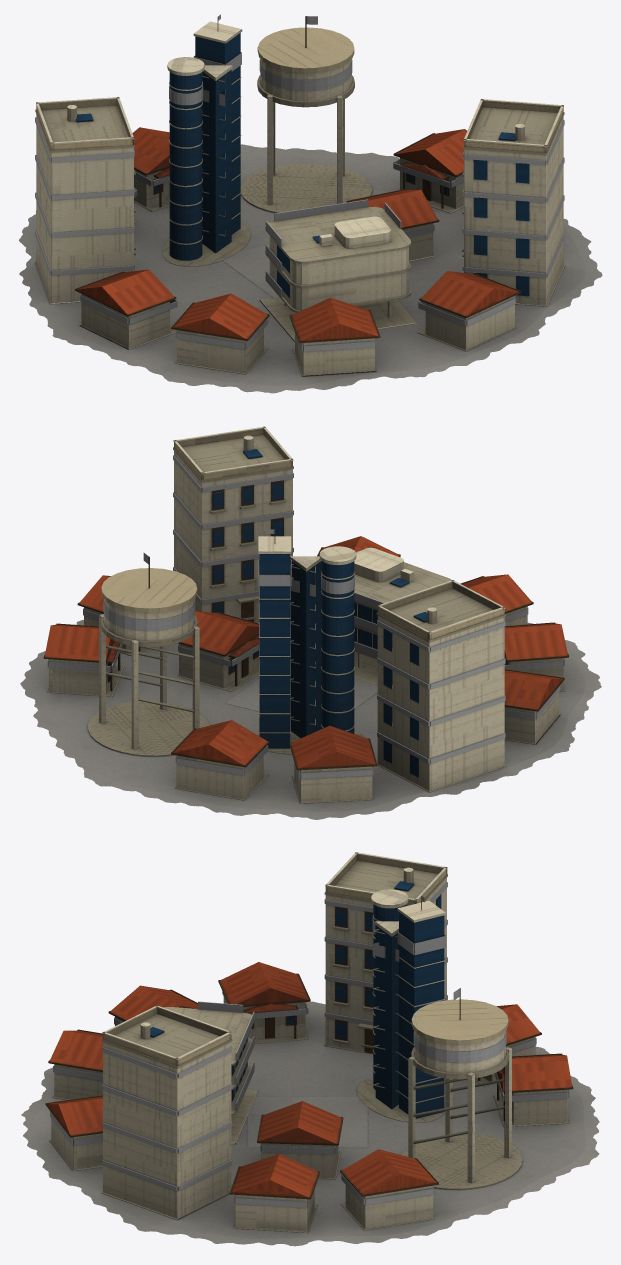
The model's file is modern-town-medium-a-israelite.glb.
The picture shows the model from 3 angles, top to bottom: view 1: azimuth 30°, elevation 25°; view 2: azimuth 150°, elevation 25°; view 3: azimuth 270°, elevation 25°; orthographic projection.
Visible parts, largest first — view 1: LOD0; view 2: LOD0; view 3: LOD0.
Part boxes in pixels (<box>): LOD0: <box>19,14,602,393</box>; LOD0: <box>20,426,601,819</box>; LOD0: <box>21,852,599,1246</box>.
Size of what is drawn, in the model's own units: 5.97 by 2.4 by 5.94.
Materials: 3 (3 with a texture image).
